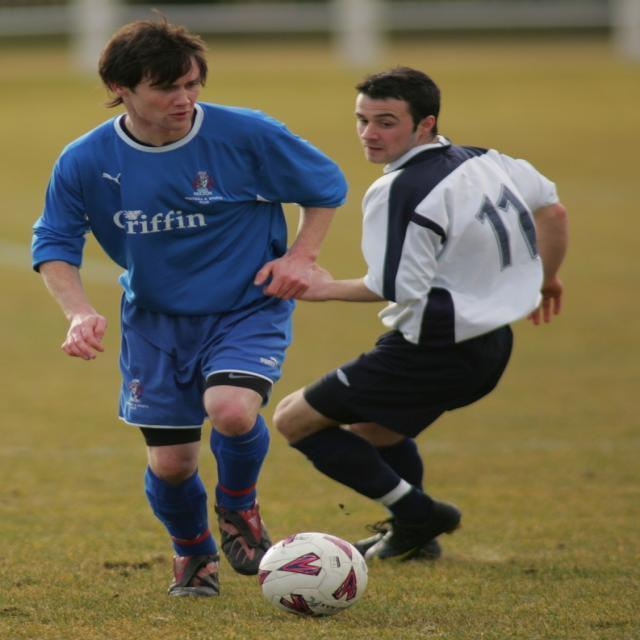football: (239, 527, 391, 617)
